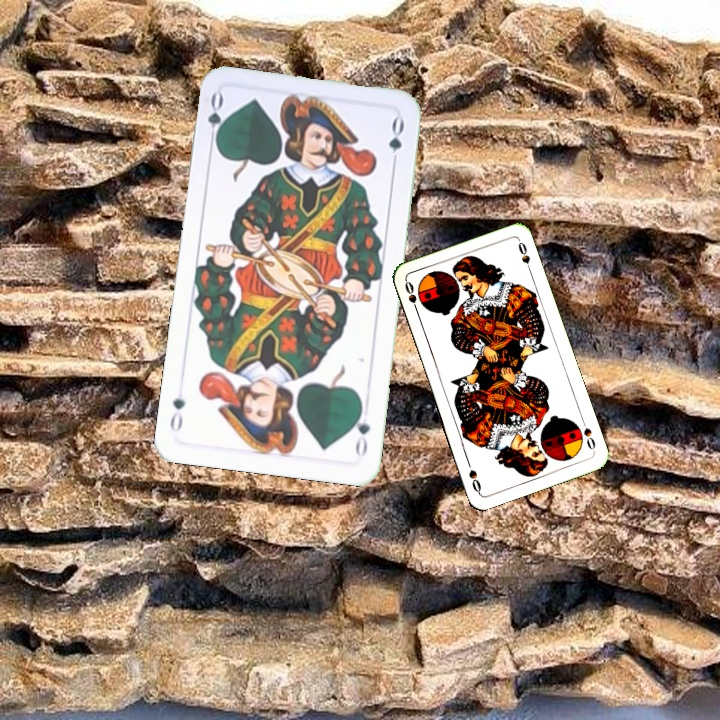GO: (203, 89, 229, 149), (350, 400, 373, 460)
SO: (401, 277, 421, 317), (578, 415, 598, 454)
